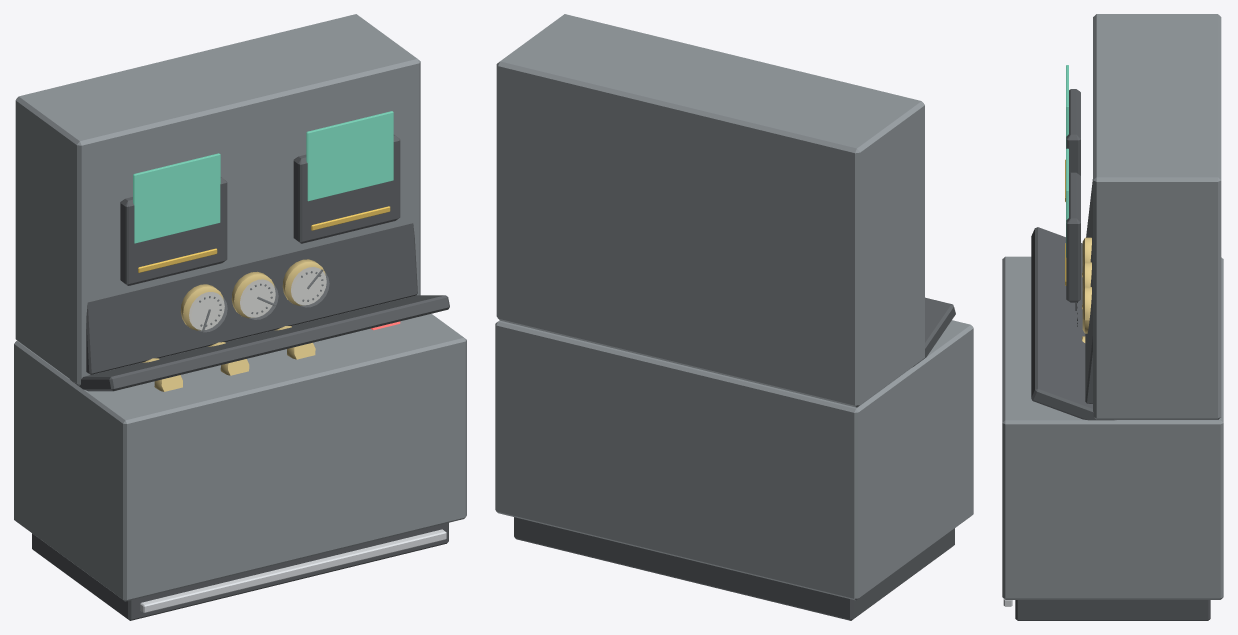
Rendered from submarine-interior-and-control-room-fire-control-conso-6871bd79__36485.glb.
The picture shows the model from 3 angles, left to right: view 1: azimuth 30°, elevation 25°; view 2: azimuth 150°, elevation 25°; view 3: azimuth 270°, elevation 25°; orthographic projection. The views are drawn at different scales.
Visible parts, largest first — view 1: fire-control-console; view 2: fire-control-console; view 3: fire-control-console.
Boxes of the visible parts, left/top/right/bottom form: fire-control-console: left=14, top=14, right=466, bottom=620; fire-control-console: left=495, top=14, right=973, bottom=620; fire-control-console: left=1002, top=14, right=1223, bottom=620.
Bounding box in the file's own units: 1.35 × 1.7 × 0.76.
